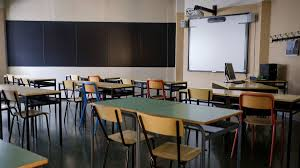desk: (90, 95, 242, 167), (181, 89, 299, 164), (0, 82, 59, 145), (57, 80, 136, 111), (130, 77, 186, 99), (3, 74, 55, 89)
